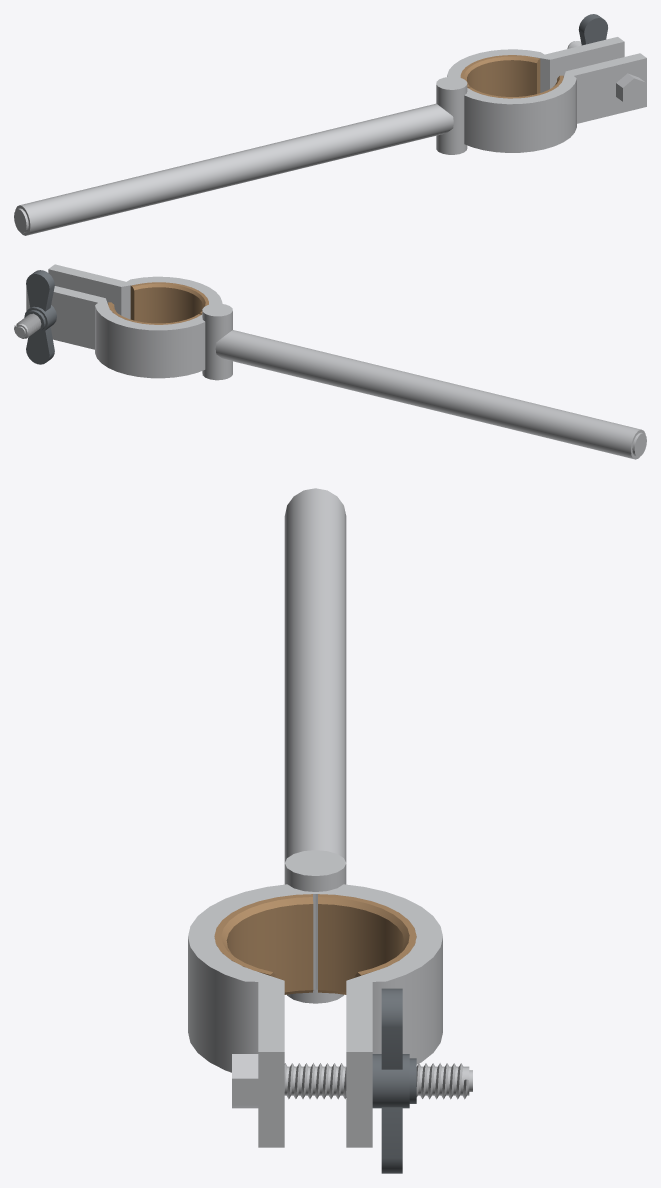
File: TubeClamp.glb
The picture shows the model from 3 angles, top to bottom: view 1: azimuth 30°, elevation 25°; view 2: azimuth 150°, elevation 25°; view 3: azimuth 270°, elevation 25°; orthographic projection. The views are drawn at different scales.
Parts seen in each view (by area): view 1: TubeClampHandle, TubeClampJawFixed, TubeClampJawMoving, TubeClampHinge, TubeClampBolt, TubeClampWingNut; view 2: TubeClampHandle, TubeClampJawMoving, TubeClampJawFixed, TubeClampWingNut, TubeClampHinge, TubeClampBolt; view 3: TubeClampHandle, TubeClampJawFixed, TubeClampJawMoving, TubeClampBolt, TubeClampWingNut, TubeClampHinge.
Boxes of the visible parts, <box> form: TubeClampHandle: <box>14,103,453,235</box>; TubeClampJawFixed: <box>464,53,646,152</box>; TubeClampJawMoving: <box>447,37,624,96</box>; TubeClampHinge: <box>436,76,467,154</box>; TubeClampBolt: <box>567,41,645,105</box>; TubeClampWingNut: <box>578,14,607,45</box>; TubeClampHandle: <box>215,330,646,459</box>; TubeClampJawMoving: <box>26,286,205,378</box>; TubeClampJawFixed: <box>48,264,222,323</box>; TubeClampWingNut: <box>24,270,56,364</box>; TubeClampHinge: <box>202,303,232,380</box>; TubeClampBolt: <box>14,313,41,338</box>; TubeClampHandle: <box>284,488,346,862</box>; TubeClampJawFixed: <box>188,884,316,1147</box>; TubeClampJawMoving: <box>314,884,442,1147</box>; TubeClampBolt: <box>232,1054,472,1108</box>; TubeClampWingNut: <box>372,988,416,1173</box>; TubeClampHinge: <box>284,850,346,1003</box>.
Size of the model in its own units: 0.1576 by 0.0226 by 0.0324.
